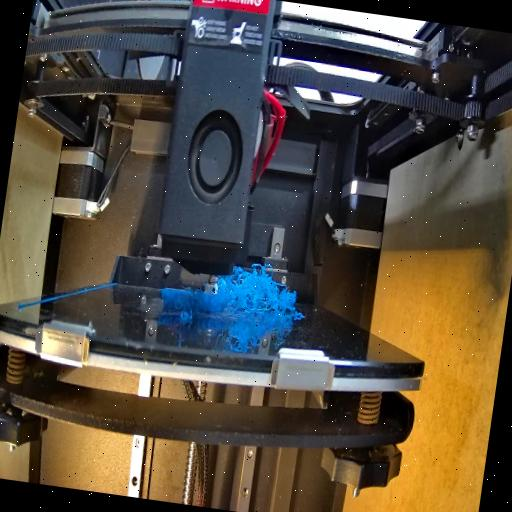spaghetti: (208, 266, 300, 320), (168, 282, 213, 326)
